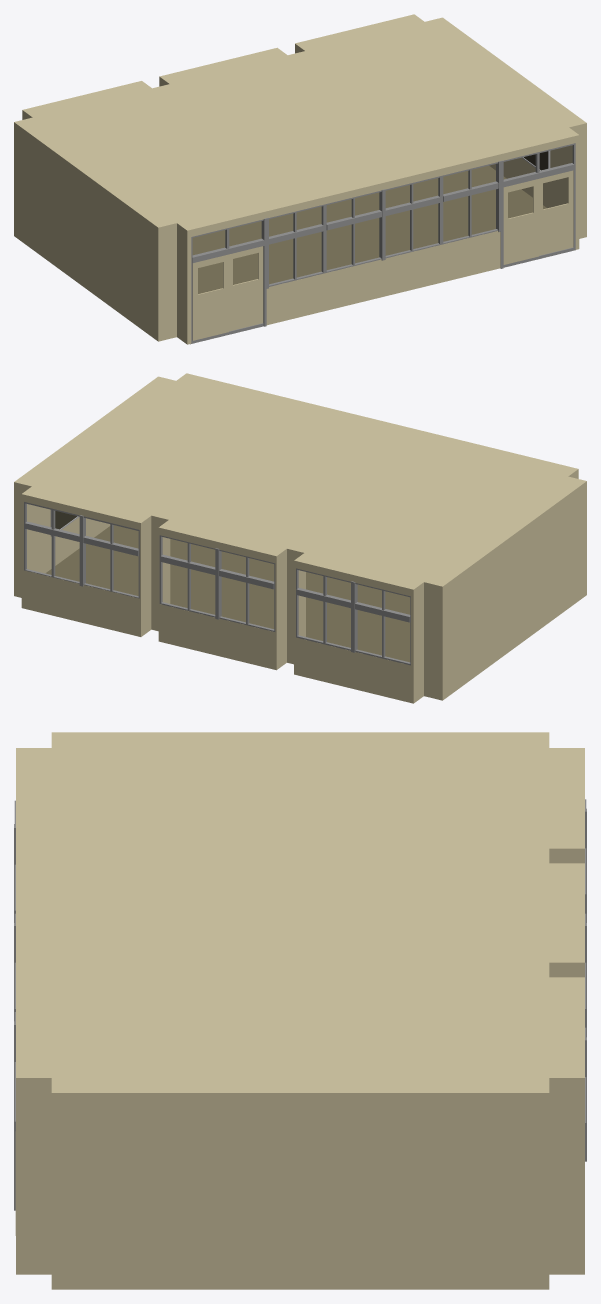
Rendered from classroom_1.glb.
3 renders of one model, top to bottom at view 1: azimuth 30°, elevation 25°; view 2: azimuth 150°, elevation 25°; view 3: azimuth 270°, elevation 25°, orthographic. The views are drawn at different scales.
Visible parts, largest first — view 1: 教室.002, ドア.001, ドア, 窓.006, 窓.004, 窓.005; view 2: 教室.002, 窓.002, 窓.001, 窓.003; view 3: 教室.002.
Boxes of the visible parts, <box> form: 教室.002: <box>14,14,586,344</box>; ドア.001: <box>192,246,263,340</box>; ドア: <box>503,170,573,264</box>; 窓.006: <box>441,143,575,268</box>; 窓.004: <box>190,204,324,344</box>; 窓.005: <box>325,176,441,273</box>; 教室.002: <box>14,373,586,703</box>; 窓.002: <box>159,535,275,631</box>; 窓.001: <box>24,502,139,598</box>; 窓.003: <box>296,568,410,665</box>; 教室.002: <box>16,732,584,1289</box>.
Bounding box in the file's own units: 12.12 × 3.09 × 8.14.
